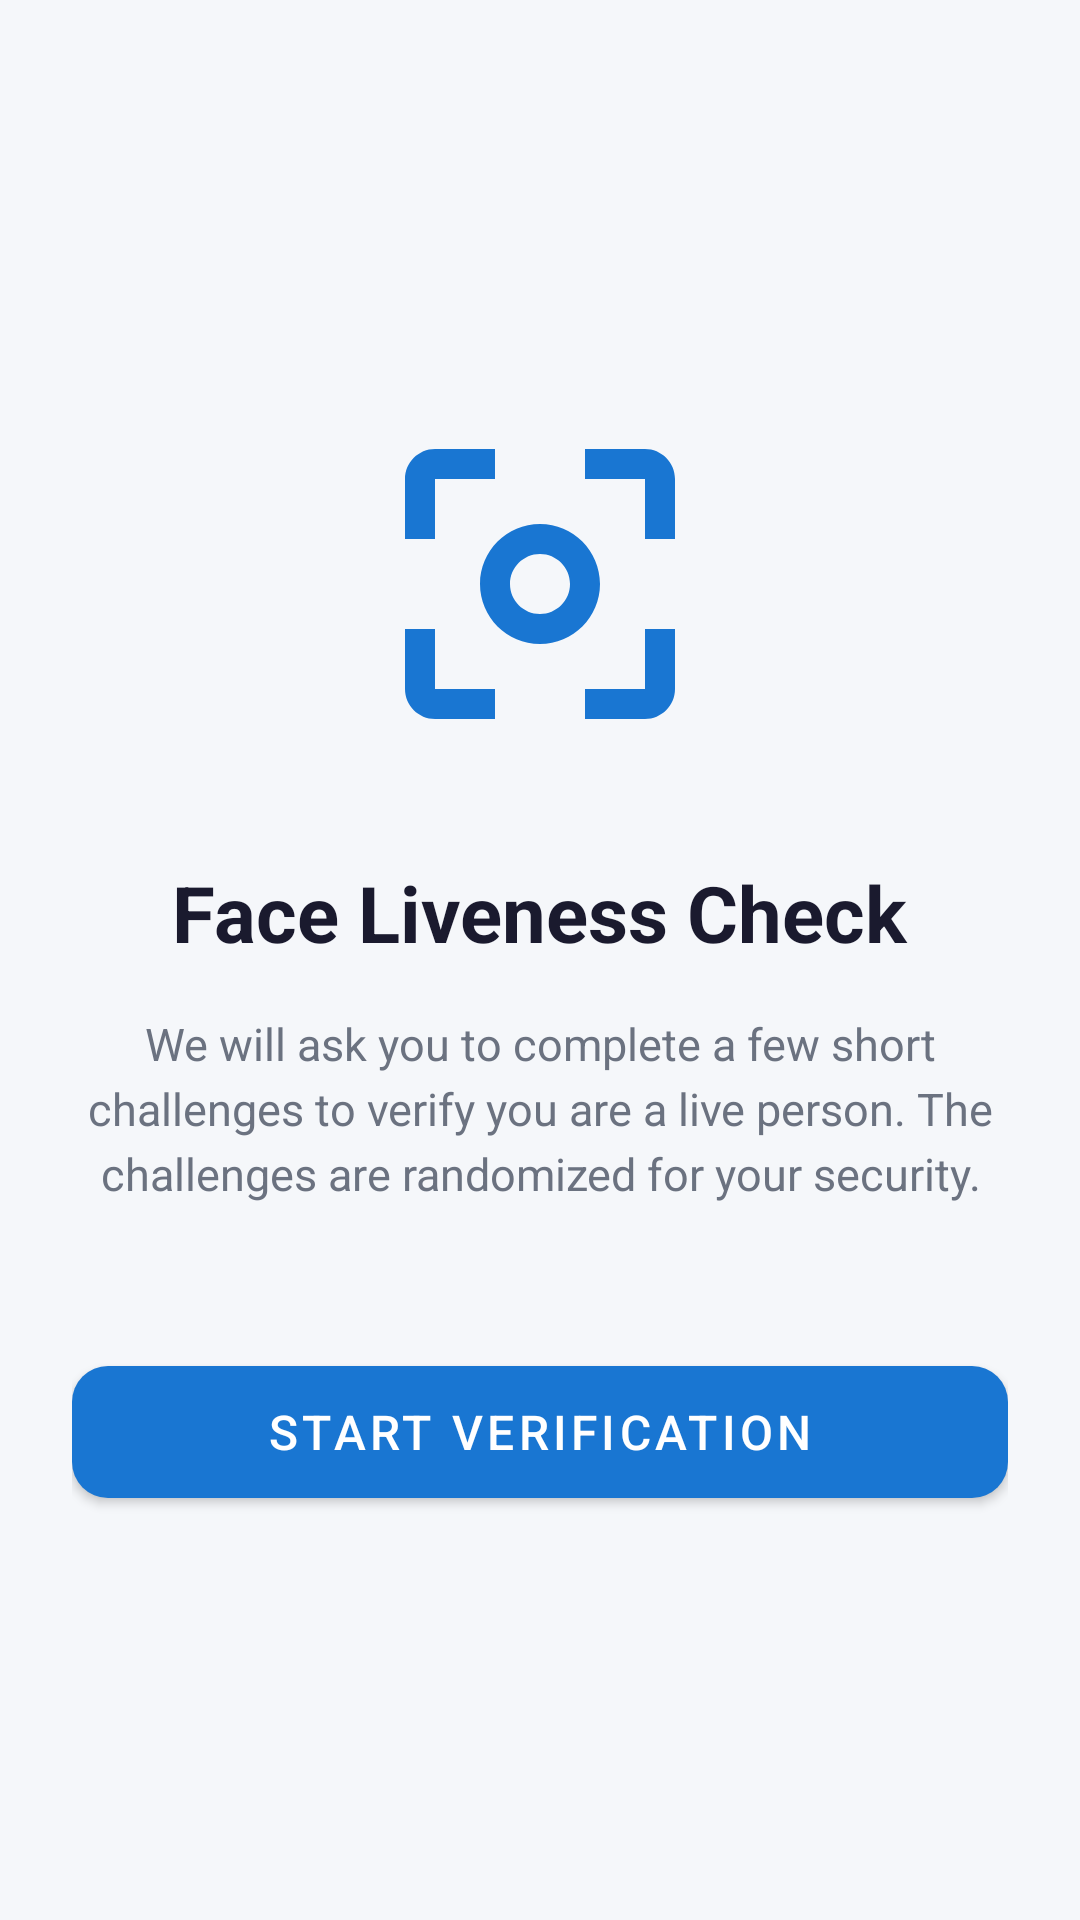

Icons on this 1080px x 1920px Android screen, each with the point to tap as (x,y):
face scan: (540,584)
